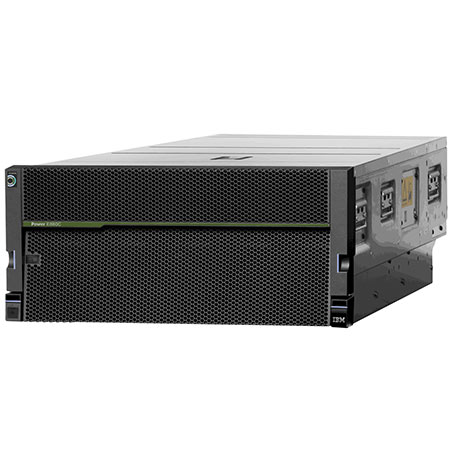ibm-server: (2, 128, 449, 335)
